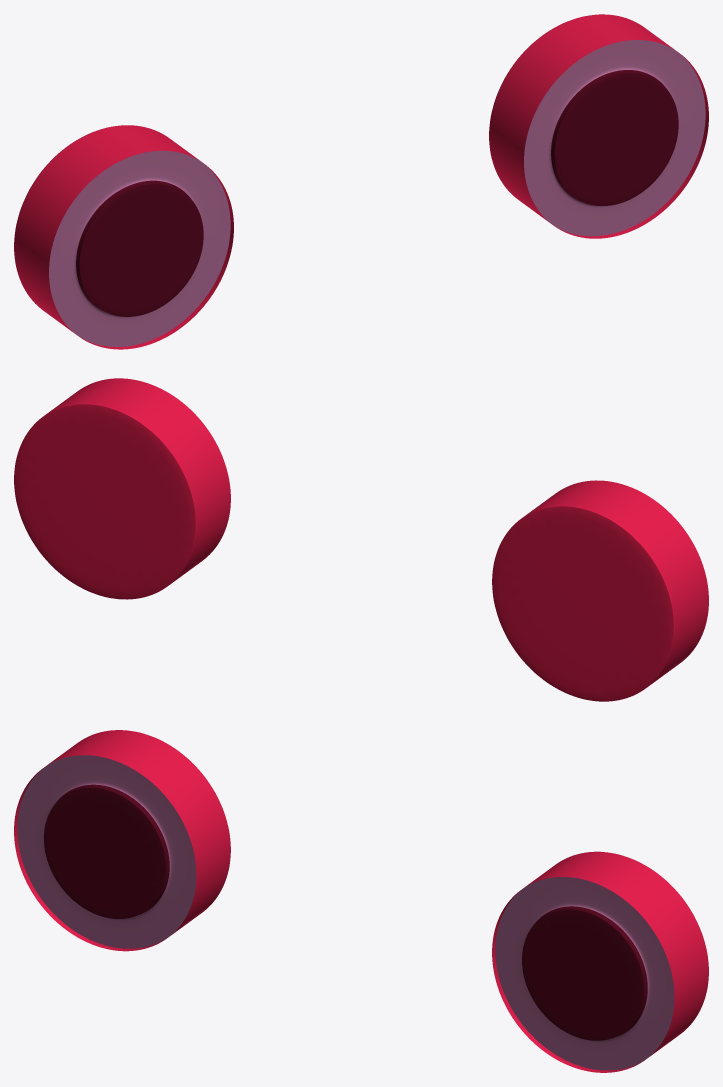
The model's file is eye.obj.
3 renders of one model, top to bottom at view 1: azimuth 30°, elevation 25°; view 2: azimuth 150°, elevation 25°; view 3: azimuth 330°, elevation 25°, orthographic.
Visible parts, largest first — view 1: eye; view 2: eye; view 3: eye.
Boxes of the visible parts, x1,y1,x2,y2 form: eye: [14, 14, 708, 349]; eye: [14, 378, 708, 701]; eye: [14, 730, 708, 1072].
Size of the model in its own units: 3.46 by 1.01 by 0.3749.
